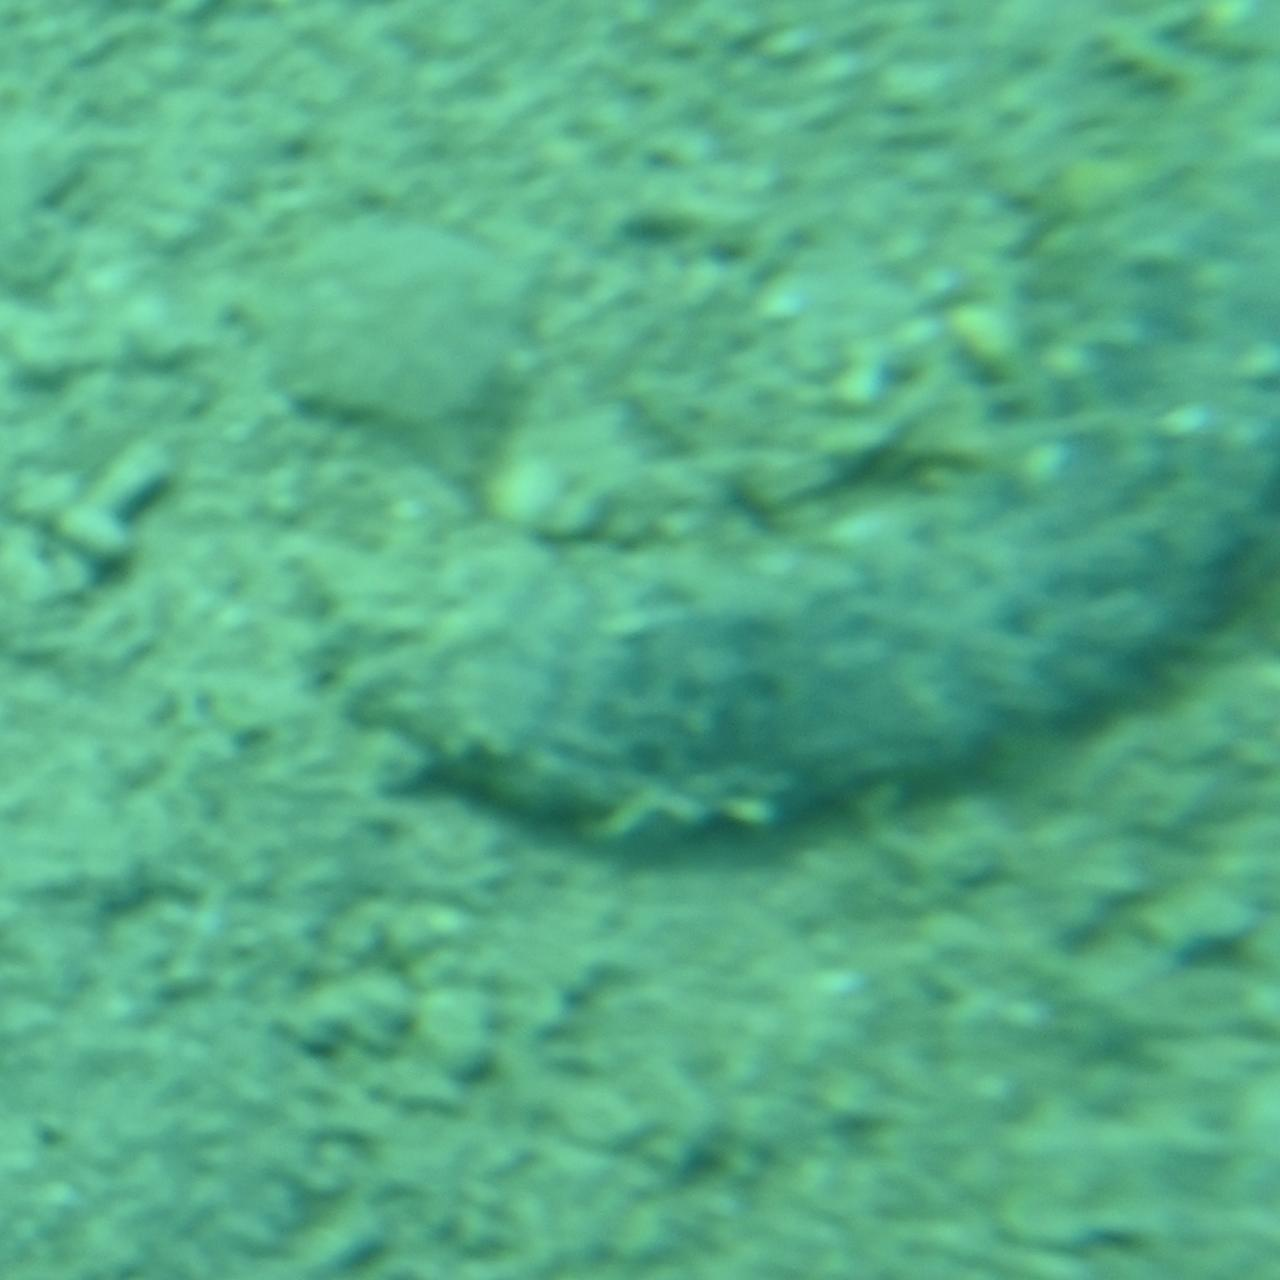Holothuria tubulosa: (325, 386, 1279, 894)
